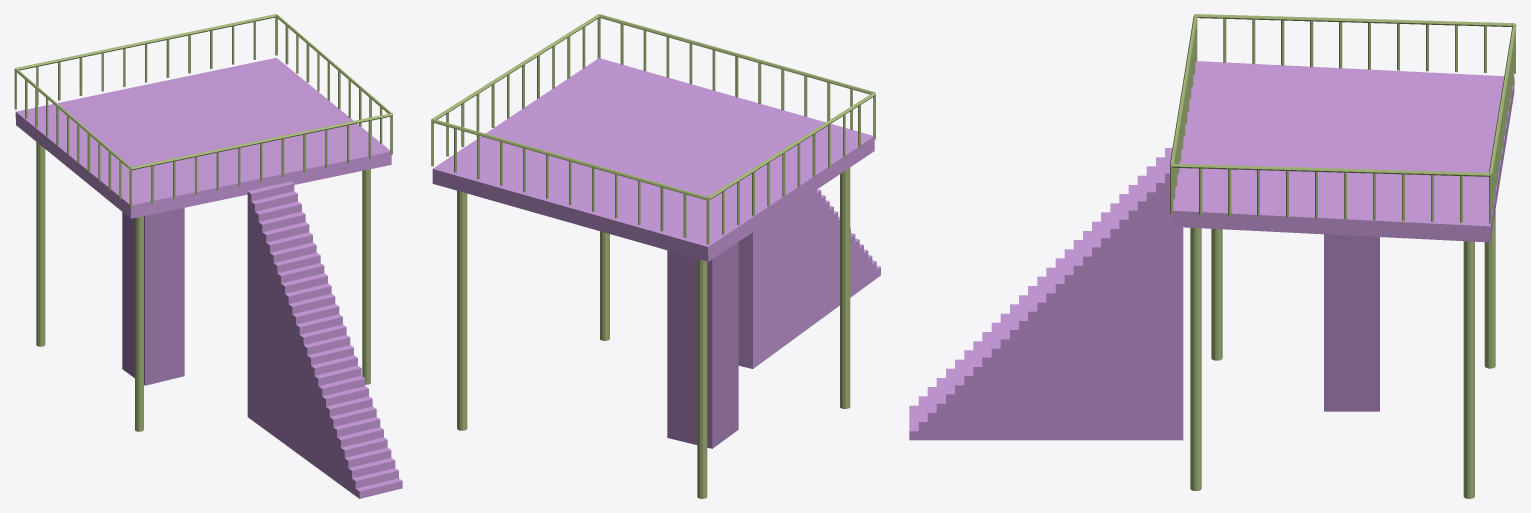
File: folie_tag_088.glb
3 renders of one model, left to right at view 1: azimuth 30°, elevation 25°; view 2: azimuth 150°, elevation 25°; view 3: azimuth 270°, elevation 25°, orthographic. The views are drawn at different scales.
Parts seen in each view (by area): view 1: folie_tag_088_00_plate, folie_tag_088_stairs, folie_tag_088_line, folie_tag_088_core; view 2: folie_tag_088_00_plate, folie_tag_088_line, folie_tag_088_stairs, folie_tag_088_core; view 3: folie_tag_088_00_plate, folie_tag_088_stairs, folie_tag_088_line, folie_tag_088_core.
Part boxes in pixels (x1,y1,x2,y2): folie_tag_088_00_plate: (15,57,391,218); folie_tag_088_stairs: (247,181,402,498); folie_tag_088_line: (14,14,392,431); folie_tag_088_core: (122,207,184,385); folie_tag_088_00_plate: (432,58,874,261); folie_tag_088_line: (431,14,875,498); folie_tag_088_stairs: (738,189,880,368); folie_tag_088_core: (667,242,738,448); folie_tag_088_00_plate: (1171,61,1514,242); folie_tag_088_stairs: (909,148,1183,440); folie_tag_088_line: (1169,14,1516,498); folie_tag_088_core: (1324,234,1379,411).
Bounding box in the file's own units: 7.49 × 7.26 × 11.97.
